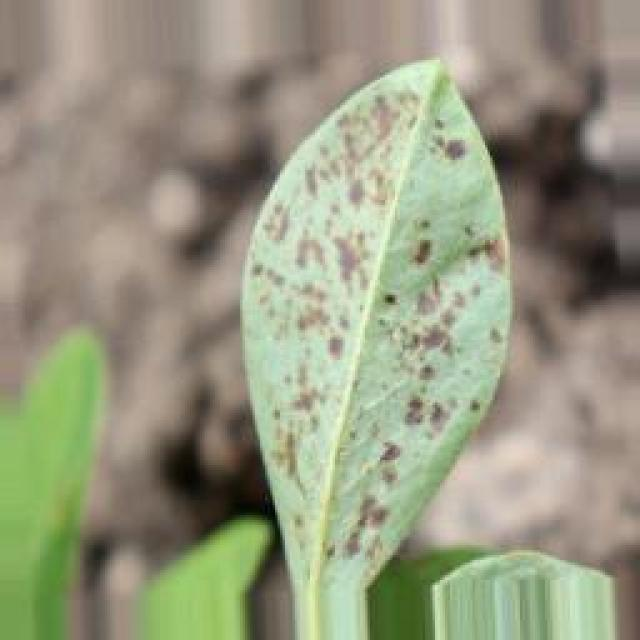Whitefly: (223, 47, 543, 606)
